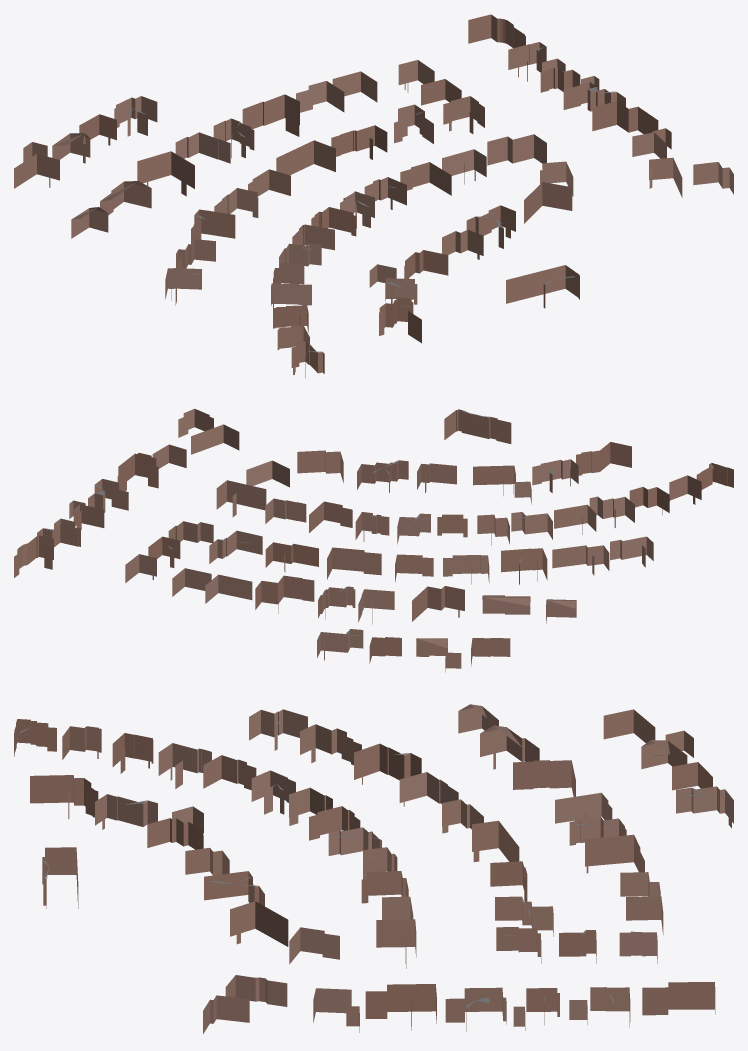
The model's file is c_1644_17821_buildings_residential.glb.
3 views of the same model, one above another, from view 1: azimuth 30°, elevation 25°; view 2: azimuth 150°, elevation 25°; view 3: azimuth 270°, elevation 25° (orthographic). The views are drawn at different scales.
Visible parts, largest first — view 1: geometry_0; view 2: geometry_0; view 3: geometry_0.
Part boxes in pixels (x1,y1,x2,y2): geometry_0: [14, 14, 733, 377]; geometry_0: [14, 408, 733, 672]; geometry_0: [14, 704, 733, 1033].
Bounding box in the file's own units: 264 × 11.19 × 261.
